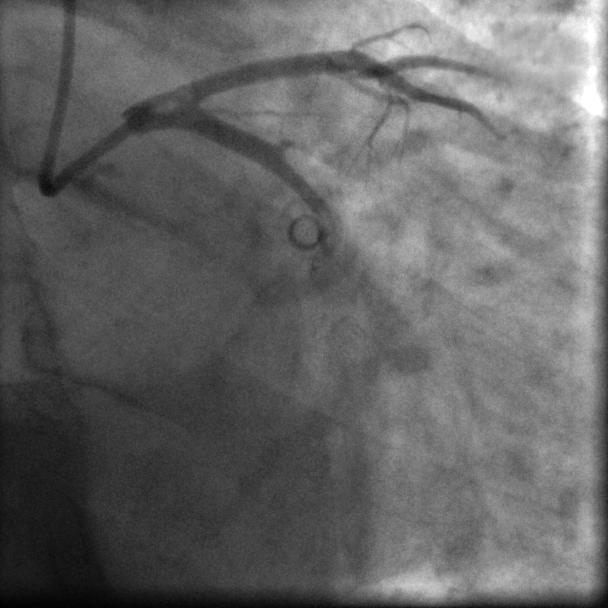Stenosis: (276, 133, 304, 156)
